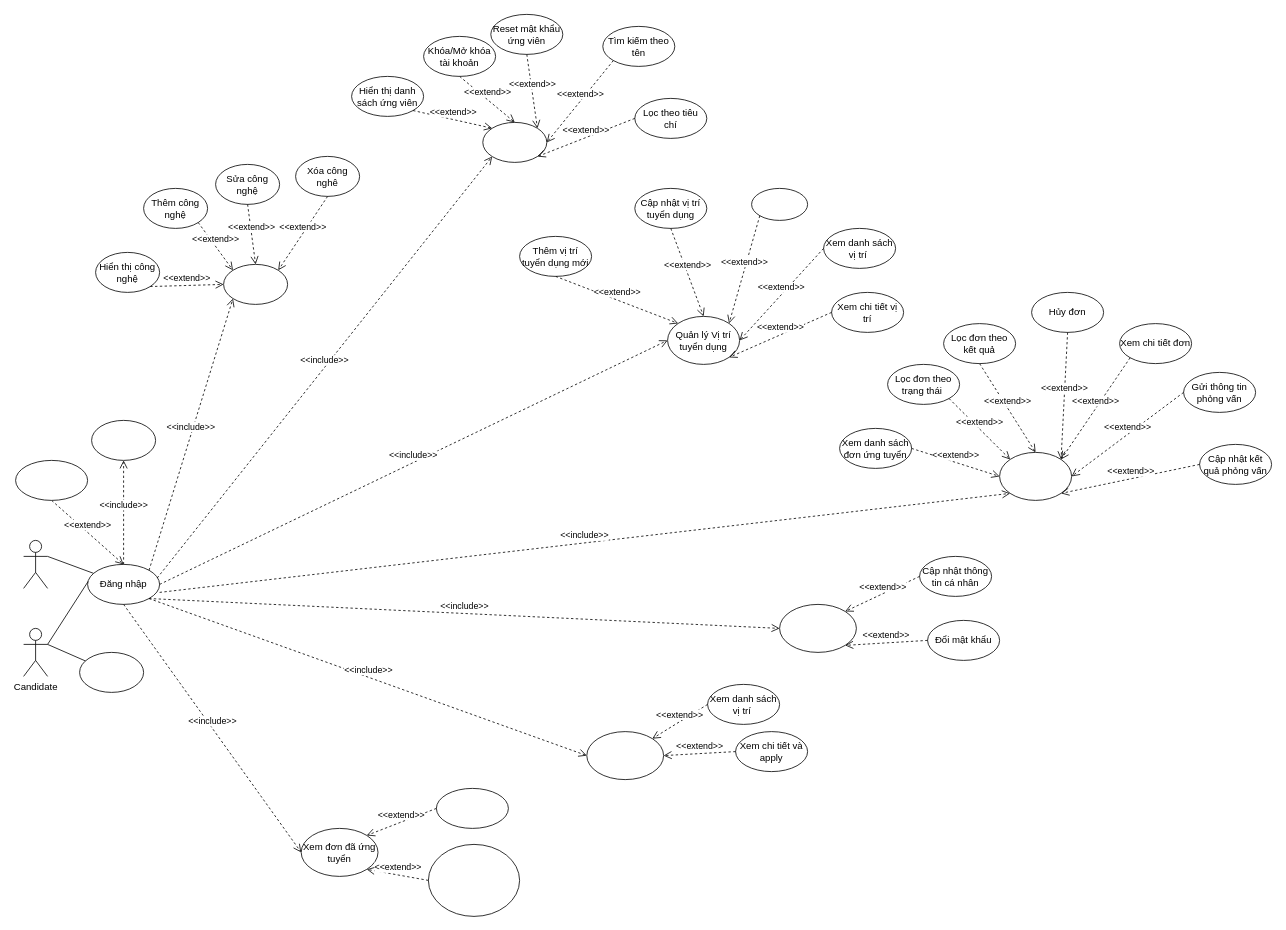
This 1286x930 diagram has some shape labels left out. The shapes that lost their labels are listed below. From the top down, each one's box as (x1, y1, x2, y2) in pixels, then its label:
(482, 122, 547, 162): Quản lý ứng viên
(751, 188, 808, 220): Xóa vị trí
(223, 264, 288, 304): Quản lý công nghệ
(91, 420, 156, 460): Đăng xuất
(15, 460, 88, 500): Duy trì đăng nhập
(999, 452, 1072, 500): Quản lý Đơn ứng tuyển
(23, 540, 48, 588): Admin
(779, 604, 856, 652): Quản lý Thông tin cá nhân
(79, 652, 144, 692): Đăng kí
(586, 731, 664, 780): Xem và nộp đơn ứng tuyển
(436, 788, 508, 828): Xem danh sách đơn đã nộp
(428, 844, 520, 916): Xem chi tiết đơn và chấp nhận hoặc từ chối phỏng vấn
